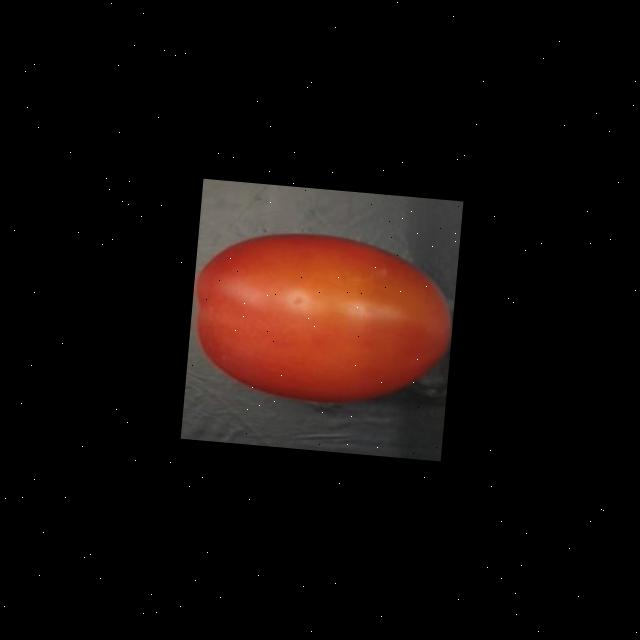tomato: (182, 220, 458, 417)
